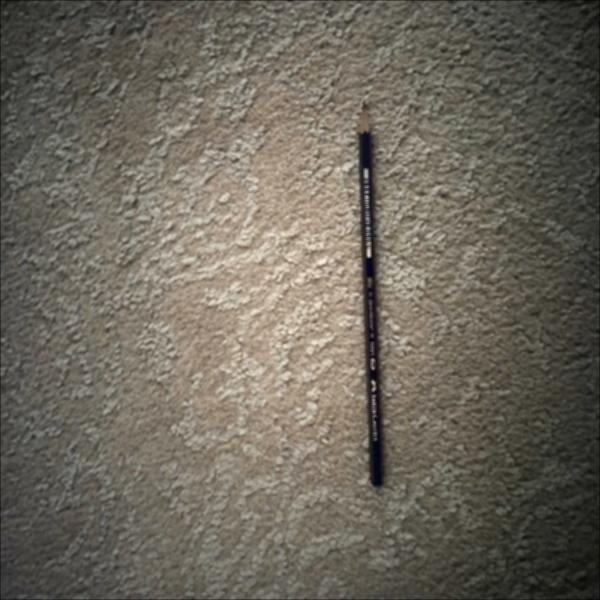pencil: (348, 102, 411, 492)
